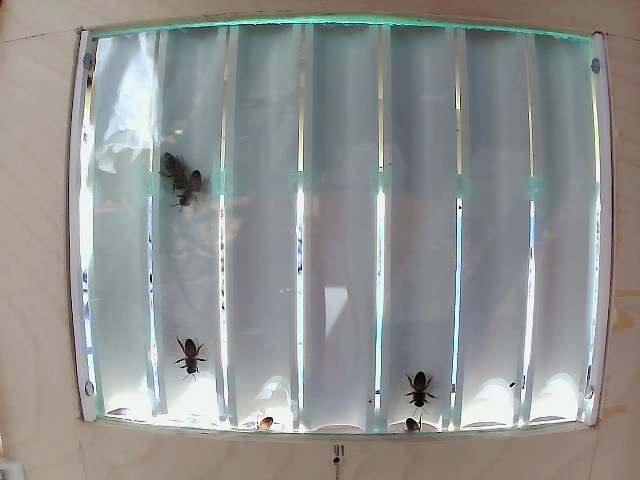bee: (175, 318, 212, 393), (405, 361, 434, 409), (158, 146, 183, 189), (175, 168, 197, 210)
